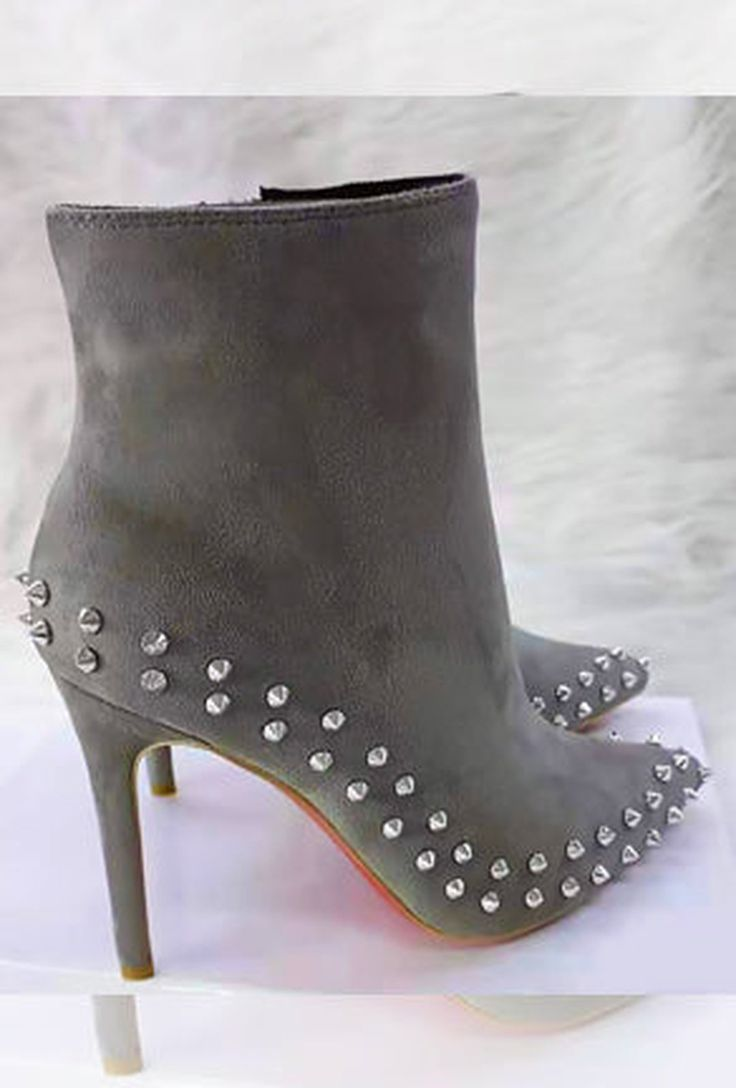gamuza: (28, 174, 708, 939)
